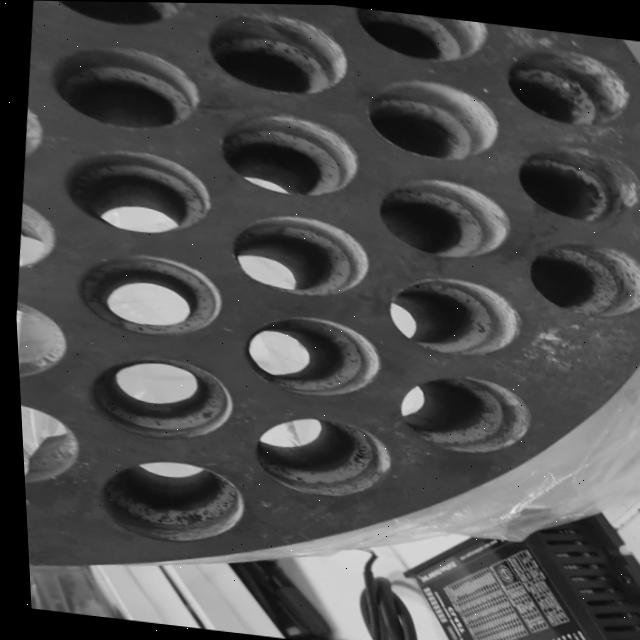Hole: (87, 451, 243, 549), (44, 39, 202, 135), (55, 144, 214, 239), (67, 246, 222, 342), (77, 350, 232, 445), (211, 106, 361, 202), (199, 5, 352, 99), (219, 207, 370, 301), (231, 308, 381, 402), (242, 409, 389, 501), (357, 72, 502, 165), (369, 171, 511, 262), (378, 270, 521, 360), (389, 368, 529, 458), (497, 37, 632, 130), (507, 138, 640, 225), (518, 235, 640, 321), (348, 6, 488, 66), (32, 0, 188, 32)
